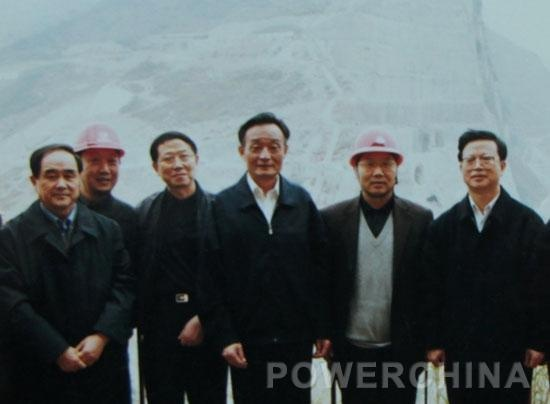none: (28, 142, 86, 209), (235, 113, 291, 180), (454, 130, 509, 195), (151, 133, 201, 192)
red: (348, 125, 405, 199), (72, 124, 124, 195)
